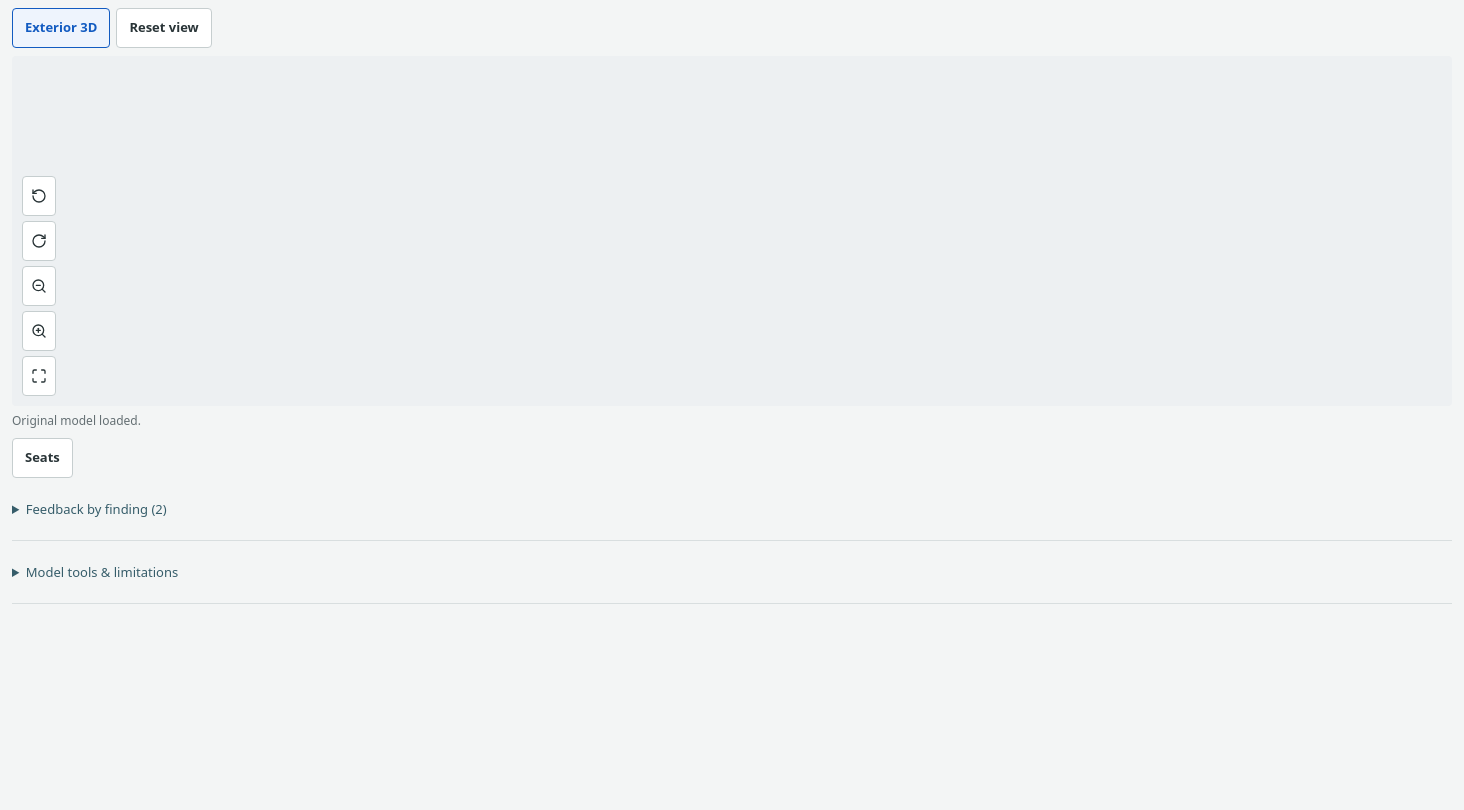
Test case: keeps overlapping findings separate instead of presenting an invented part total
Expected: the text "Original model loaded." is shown, [12,412,141,429]
Click the heading "Feedback by finding (2)".
click(96, 509)  # box [26,500,167,518]
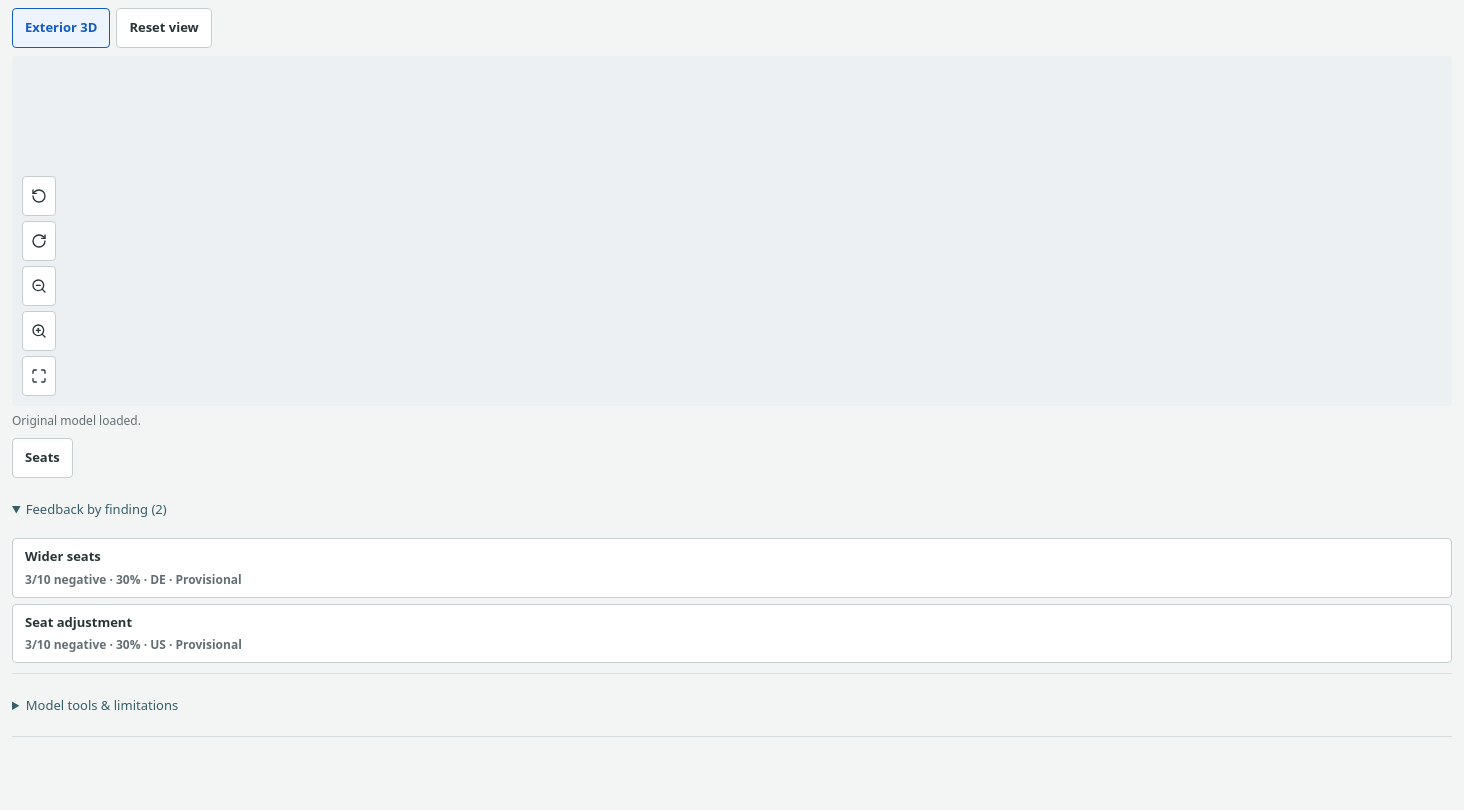
Expected: the text "3/10 negative · 30% · DE · Provisional" is shown 2 times, [25,570,242,588]; [25,636,242,654]
